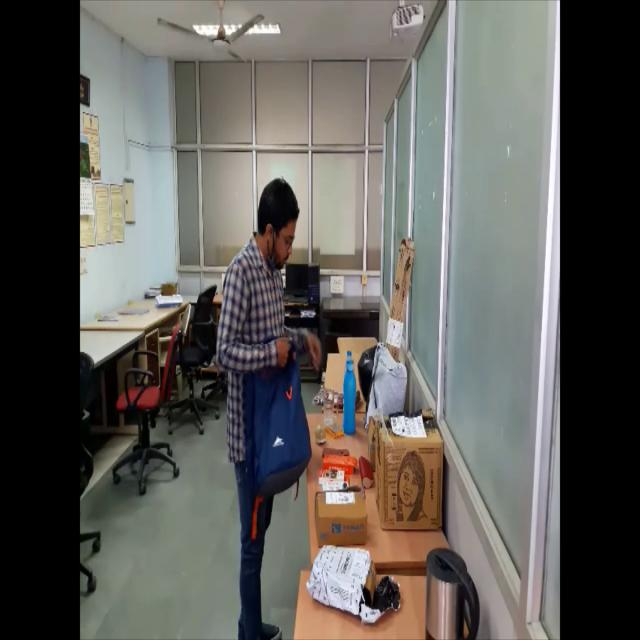shoplifting: (217, 178, 321, 640)
